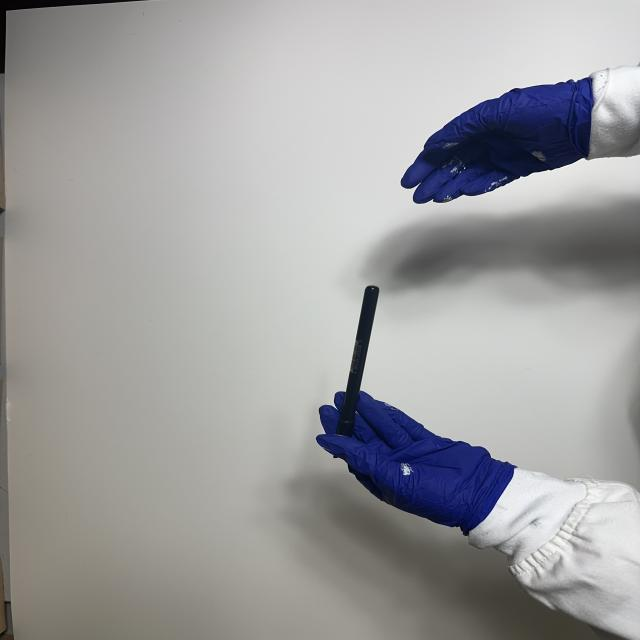gloves_contaminated: (317, 392, 515, 534), (401, 79, 593, 203)
